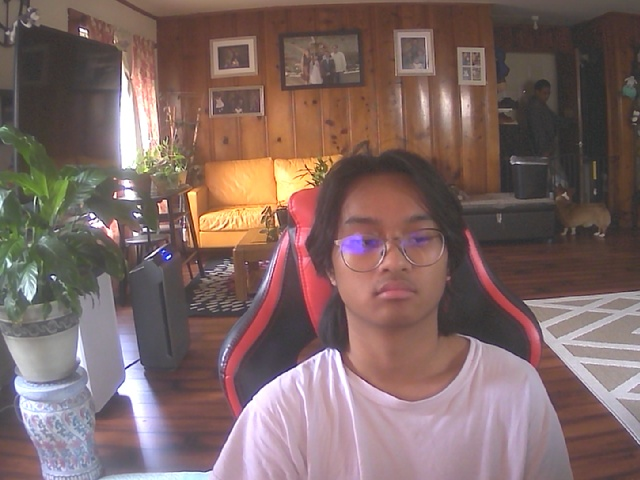neutral: (323, 162, 457, 333)
